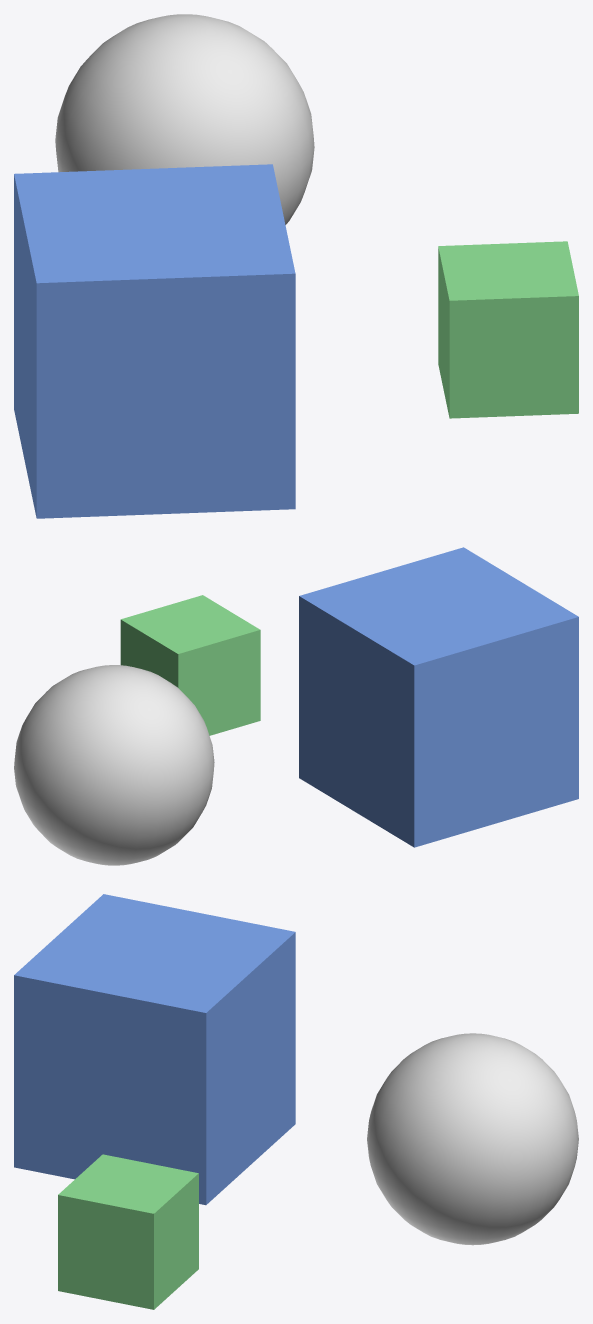
File: testScene.dae
3 renders of one model, top to bottom at view 1: azimuth 30°, elevation 25°; view 2: azimuth 150°, elevation 25°; view 3: azimuth 270°, elevation 25°, orthographic. The views are drawn at different scales.
Parts seen in each view (by area): view 1: Cube, Sphere, Cube_001; view 2: Cube, Sphere, Cube_001; view 3: Cube, Sphere, Cube_001.
Boxes of the visible parts, box(x1,y1,x2,y2) form: Cube: box(14, 164, 295, 518); Sphere: box(55, 14, 314, 224); Cube_001: box(438, 241, 578, 418); Cube: box(299, 547, 578, 847); Sphere: box(14, 665, 214, 865); Cube_001: box(120, 595, 260, 735); Cube: box(14, 894, 295, 1205); Sphere: box(367, 1033, 578, 1245); Cube_001: box(58, 1154, 198, 1309).
Size of what is drawn, in the model's own units: 2.5 by 2.66 by 1.
